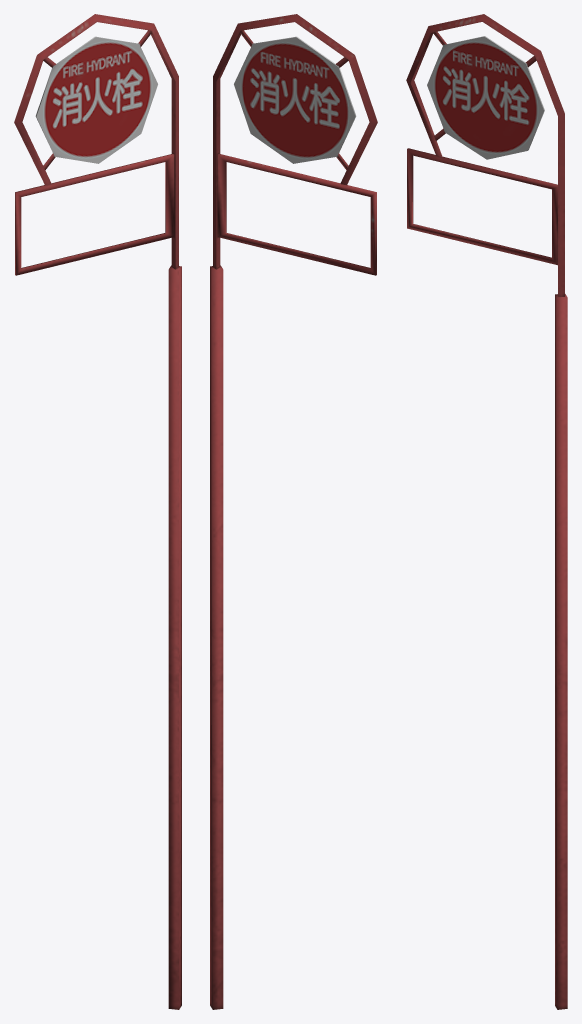
File: jctlowStreetSignC.fbx
The picture shows the model from 3 angles, left to right: view 1: azimuth 30°, elevation 25°; view 2: azimuth 150°, elevation 25°; view 3: azimuth 330°, elevation 25°; orthographic projection. The views are drawn at different scales.
Parts seen in each view (by area): view 1: jctlowStreetSignC; view 2: jctlowStreetSignC; view 3: jctlowStreetSignC.
Boxes of the visible parts, box(x1,y1,x2,y2) form: jctlowStreetSignC: box(14, 14, 181, 1009); jctlowStreetSignC: box(210, 14, 377, 1009); jctlowStreetSignC: box(406, 14, 567, 1009).
Size of the model in its own units: 85.4 by 492 by 6.8.
1 material, 1 textured.
